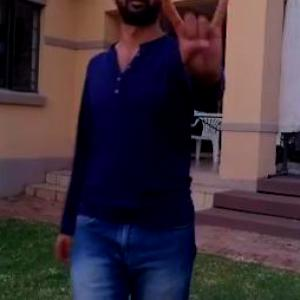takeoff-hand: (143, 0, 235, 96)
